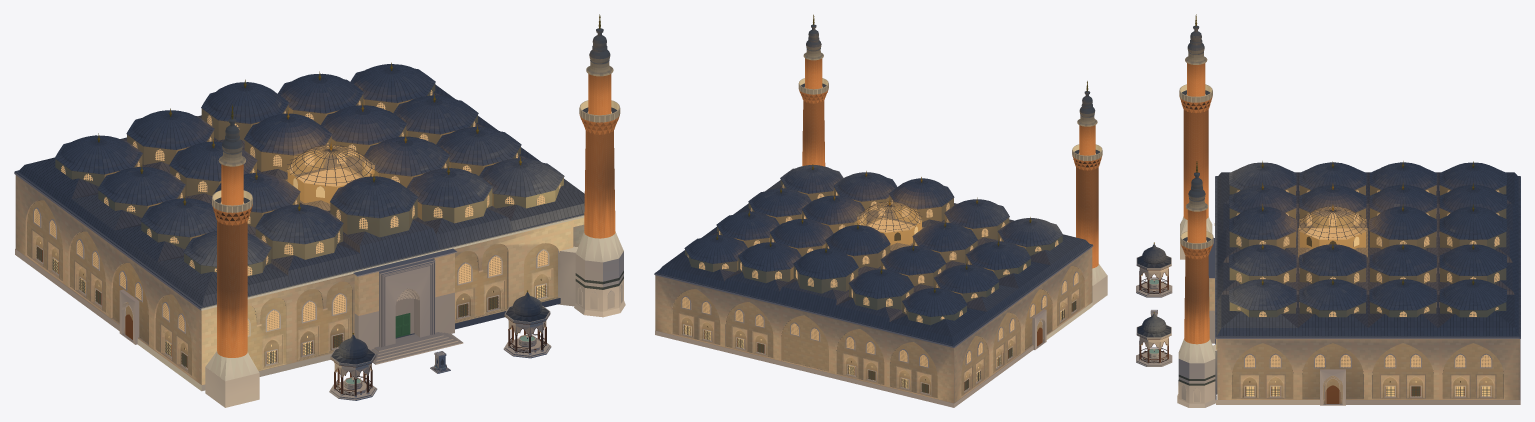
Rendered from ulu-cami_v32_night.glb.
The picture shows the model from 3 angles, left to right: view 1: azimuth 30°, elevation 25°; view 2: azimuth 150°, elevation 25°; view 3: azimuth 270°, elevation 25°; orthographic projection. The views are drawn at different scales.
Visible parts, largest first — view 1: Kubbeler_19, Cati, Cephe_Kuzey, Cephe_Dogu, Minare_1, Minare_2, Pencere_Girintileri, Tac_Kapi, Giris_Cikintili_Blok, Sadirvan_Kubbe, Kasnak_Pencereleri, Avlu_Sadirvan_Bati (+6 smaller); view 2: Kubbeler_19, Cephe_Guney, Cati, Cephe_Dogu, Pencere_Girintileri, Minare_2, Minare_1, Mermer_Bant, Sadirvan_Kubbe, Kasnak_Pencereleri, Silme_Ust, Sadirvan_Iskeleti (+1 smaller); view 3: Kubbeler_19, Cephe_Bati, Cati, Minare_1, Minare_2, Pencere_Girintileri, Sadirvan_Kubbe, Kasnak_Pencereleri, Avlu_Sadirvan_Dogu, Avlu_Sadirvan_Bati, Mermer_Bant, Kapi_Bati (+3 smaller).
Boxes of the visible parts, x1,y1,x2,y2 form: Kubbeler_19: (54, 64, 564, 276); Cati: (14, 84, 584, 308); Cephe_Kuzey: (201, 217, 584, 384); Cephe_Dogu: (16, 175, 200, 384); Minare_1: (558, 14, 625, 317); Minare_2: (205, 104, 259, 407); Pencere_Girintileri: (31, 229, 553, 372); Tac_Kapi: (371, 258, 463, 364); Giris_Cikintili_Blok: (353, 248, 457, 350); Sadirvan_Kubbe: (287, 145, 374, 203); Kasnak_Pencereleri: (61, 90, 560, 275); Avlu_Sadirvan_Bati: (503, 290, 551, 358); Kubbeler_19: (684, 165, 1062, 325); Cephe_Guney: (655, 275, 954, 403); Cati: (654, 180, 1092, 346); Cephe_Dogu: (954, 248, 1091, 402); Pencere_Girintileri: (678, 287, 1080, 396); Minare_2: (1072, 81, 1107, 305); Minare_1: (798, 14, 828, 166); Mermer_Bant: (655, 302, 1092, 407); Sadirvan_Kubbe: (857, 202, 922, 245); Kasnak_Pencereleri: (687, 184, 1058, 322); Silme_Ust: (654, 245, 1093, 347); Sadirvan_Iskeleti: (857, 201, 922, 231); Kubbeler_19: (1229, 162, 1506, 317); Cephe_Bati: (1217, 339, 1518, 403); Cati: (1215, 172, 1520, 337); Minare_1: (1177, 161, 1217, 407); Minare_2: (1179, 14, 1212, 259); Pencere_Girintileri: (1239, 374, 1496, 398); Sadirvan_Kubbe: (1299, 207, 1366, 249); Kasnak_Pencereleri: (1236, 185, 1499, 316); Avlu_Sadirvan_Dogu: (1136, 242, 1172, 297); Avlu_Sadirvan_Bati: (1136, 312, 1172, 366); Mermer_Bant: (1215, 339, 1520, 404); Kapi_Bati: (1320, 369, 1345, 405).
Bounding box in the file's own units: 70.59 × 48.1 × 70.23.
Materials: 36 (8 with a texture image).
